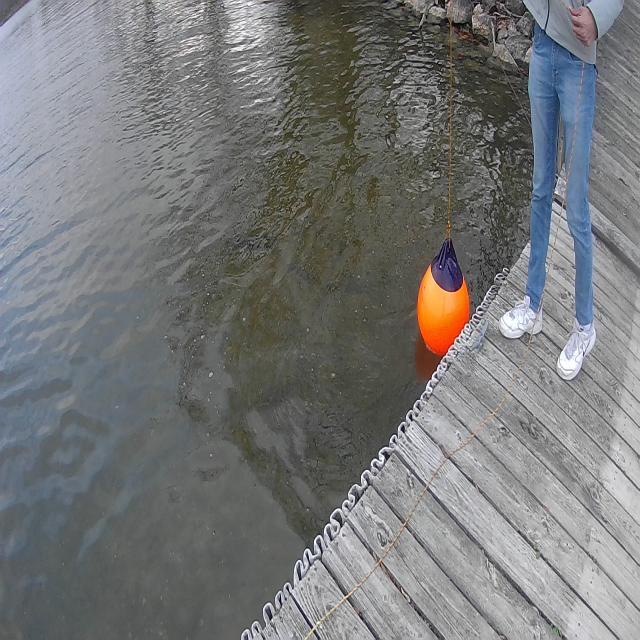Buoy: (413, 232, 472, 358)
